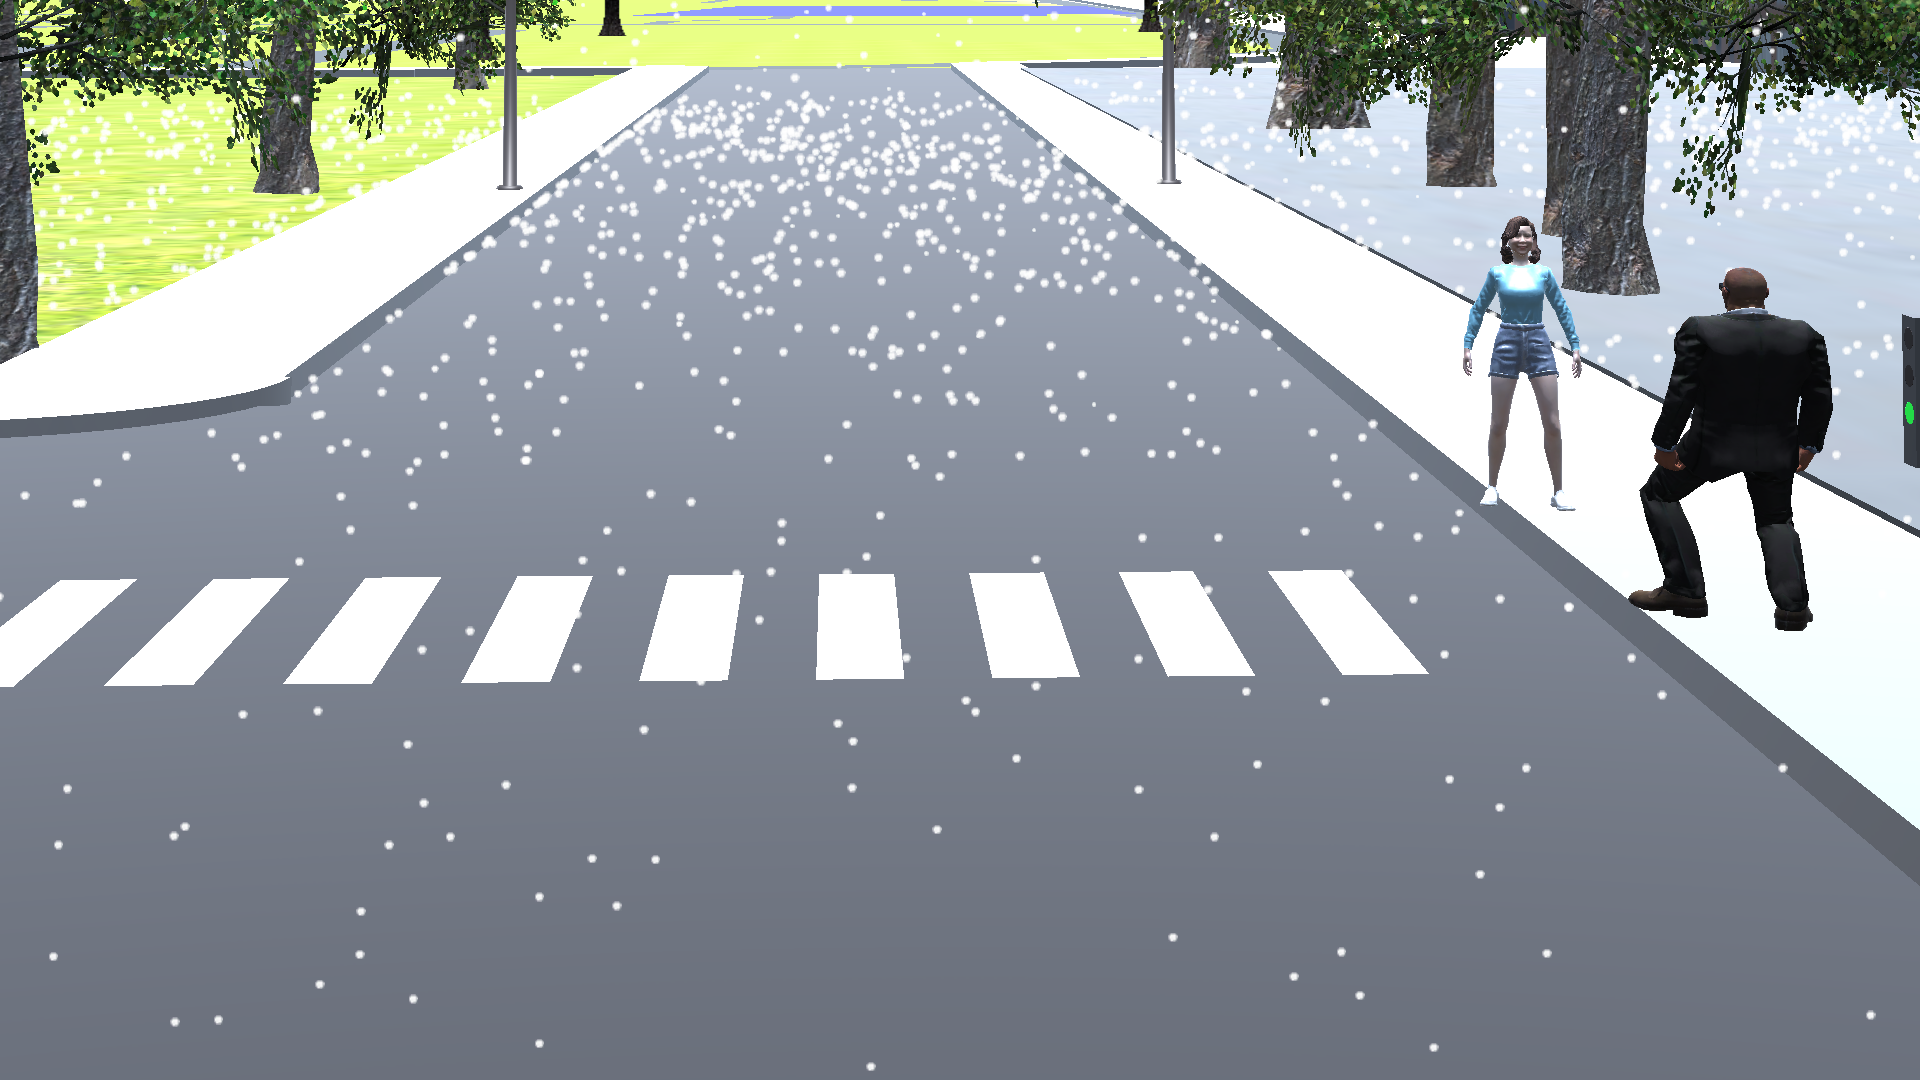pedestrian: (1626, 249, 1841, 669), (1455, 211, 1591, 525)
